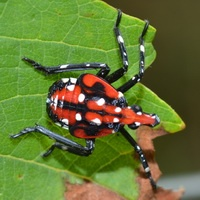insect: (11, 9, 159, 192)
